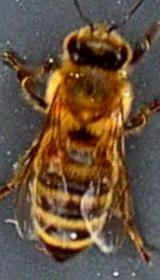varroa_mite: (30, 128, 76, 171)
